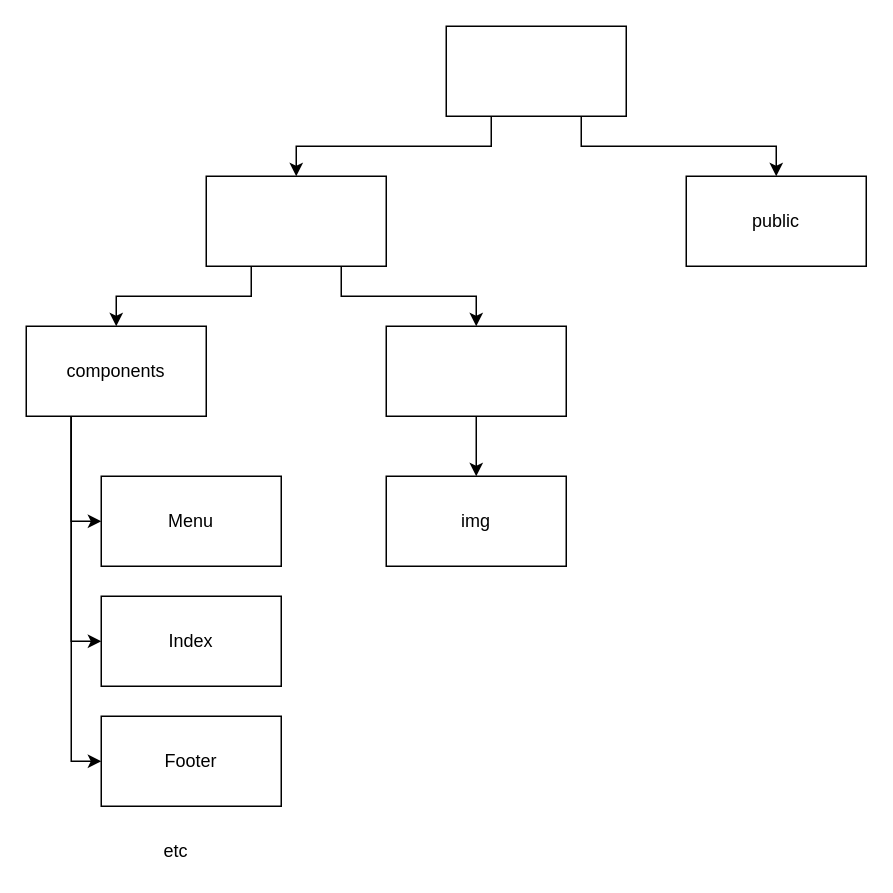
The diagram is 893 pixels wide and 893 high, and some of its shapes have lost their labels. Here are the shapes that lost their labels. From the top down, the centre of each, then its label:
At pixel 535 70: "root".
At pixel 295 220: "src".
At pixel 475 370: "resources".
